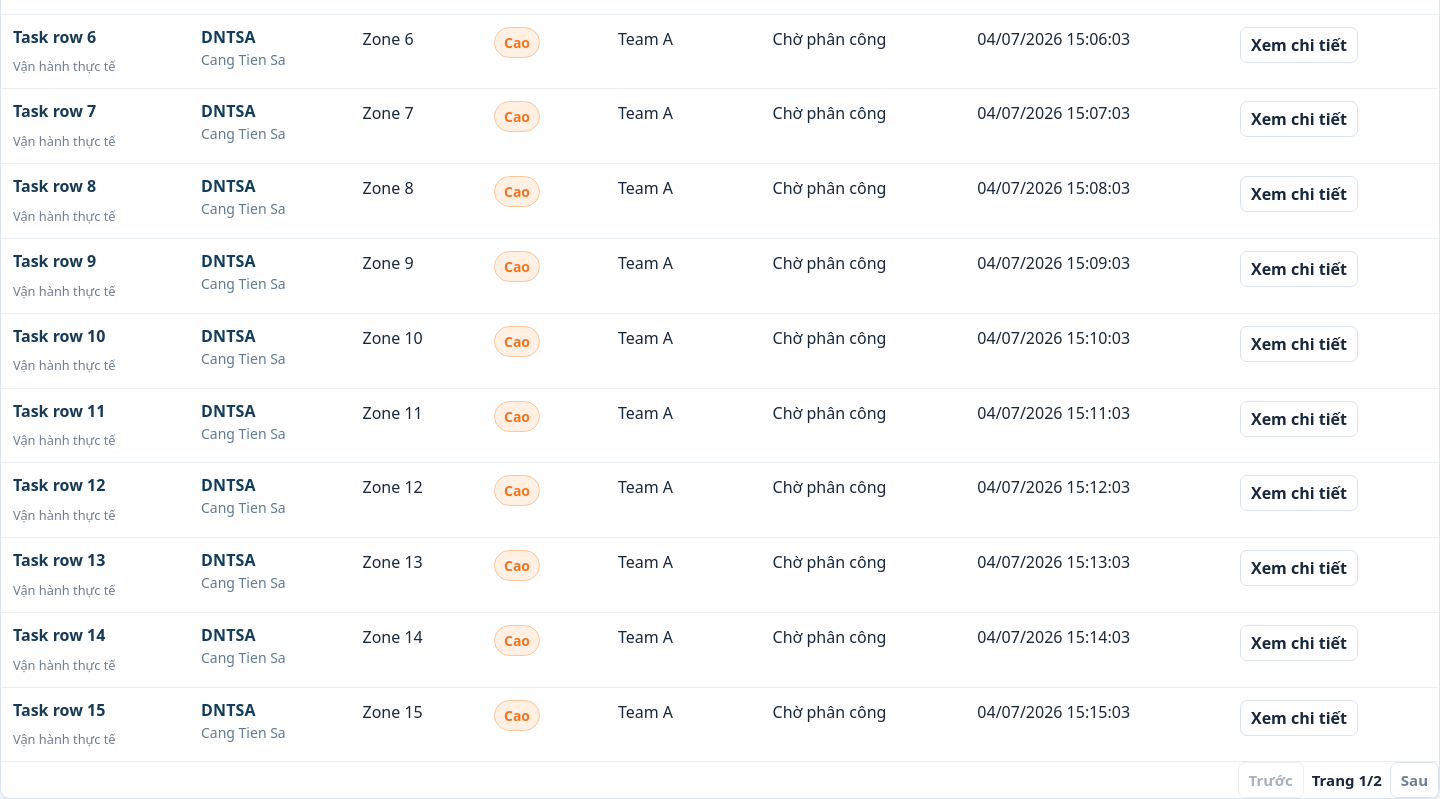
it: TasksPage › paginates task log rows fifteen at a time
(page scrolled)
Expected: the text "Trang 1/2" is shown, [1312,769,1382,792]
Expected: the text "Task row 15" is shown, [13,699,105,721]
Click the button "Sau".
click(1414, 780)  # box [1390,762,1439,798]
(page scrolled)
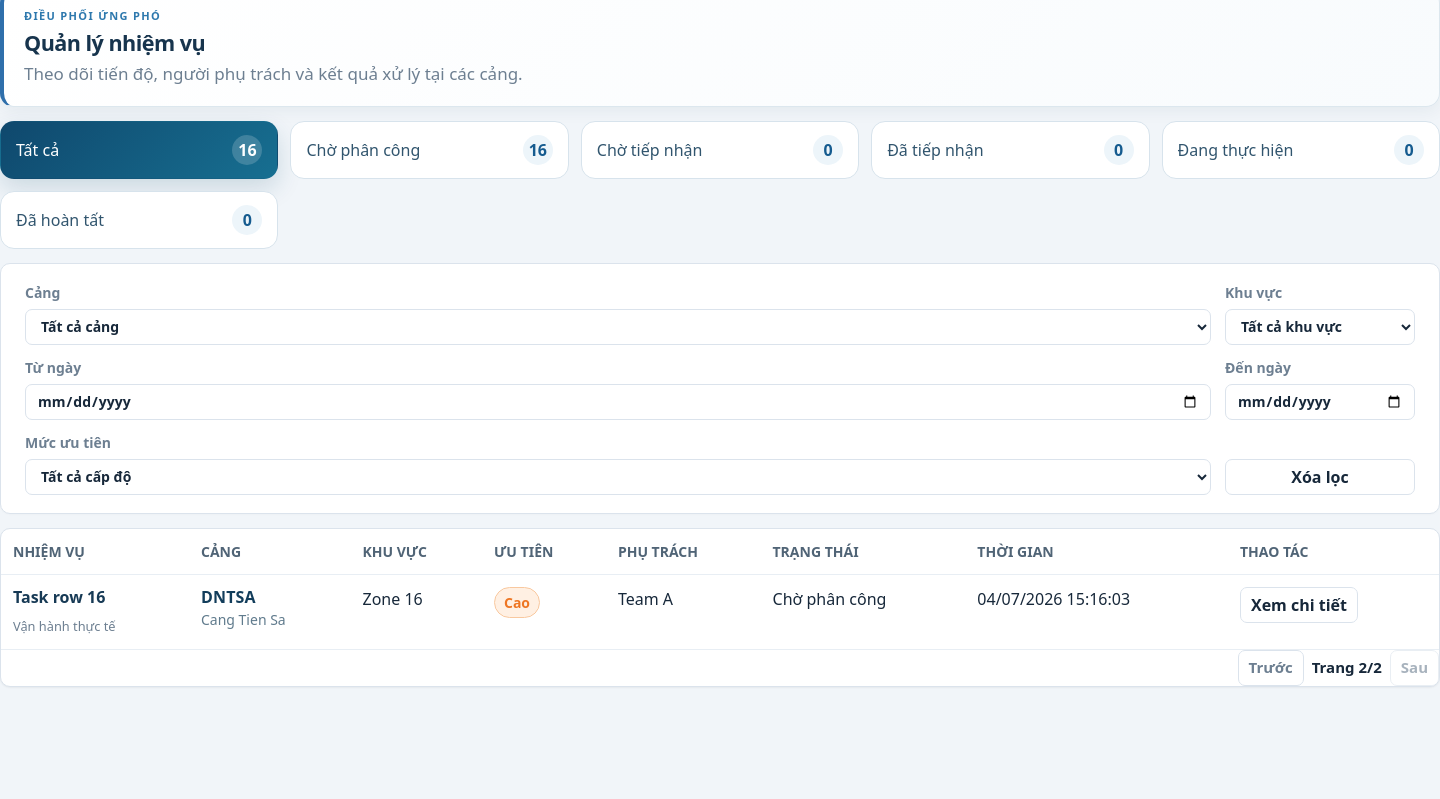
Expected: the text "Trang 2/2" is shown, [1312,656,1382,679]
Expected: the text "Task row 16" is shown, [13,586,105,608]
